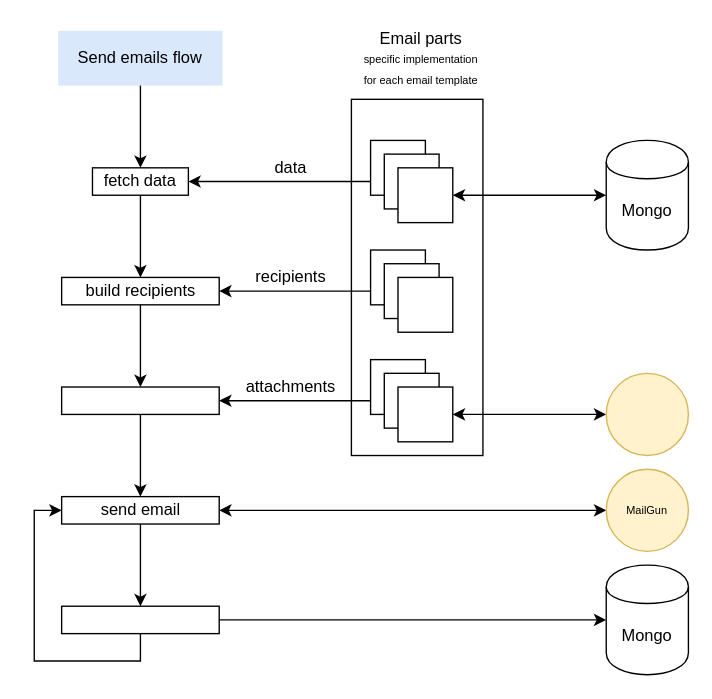
This 712x699 diagram has some shape labels left out. Each missing label, with the box of its shape:
build attachments: (60, 386, 219, 414)
PDFGenerator service: (605, 372, 688, 456)
save send status: (60, 605, 219, 634)
